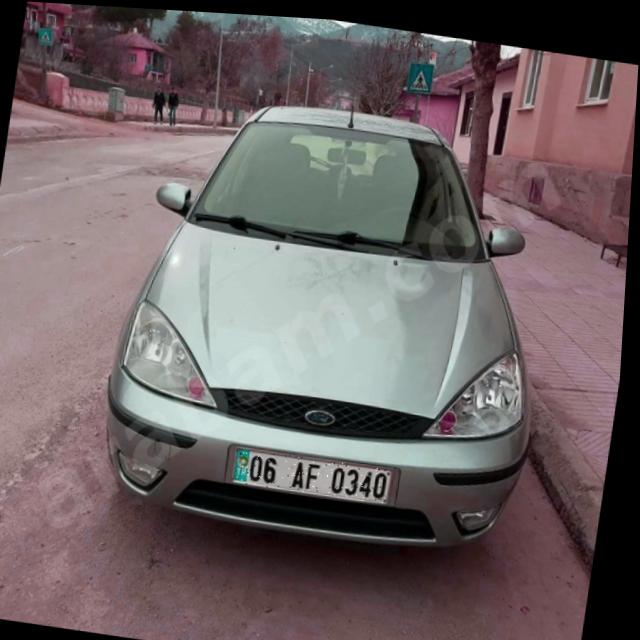license_plate: (236, 443, 398, 499)
